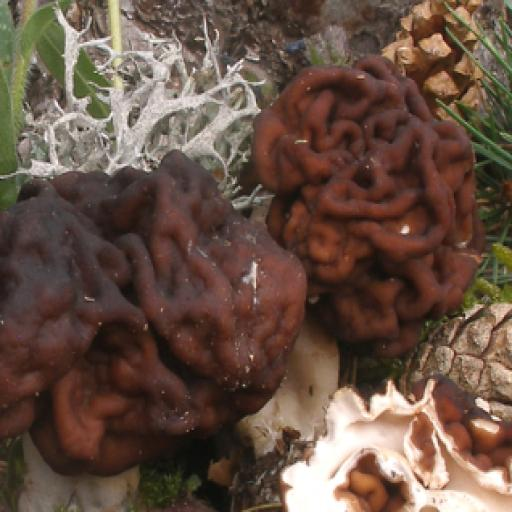False Morel: (218, 58, 494, 493), (0, 158, 303, 510)
